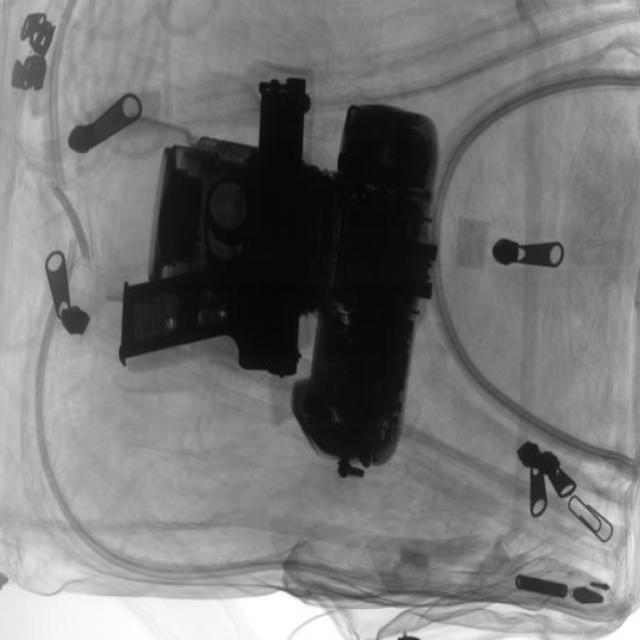GUN: (103, 67, 322, 382)
